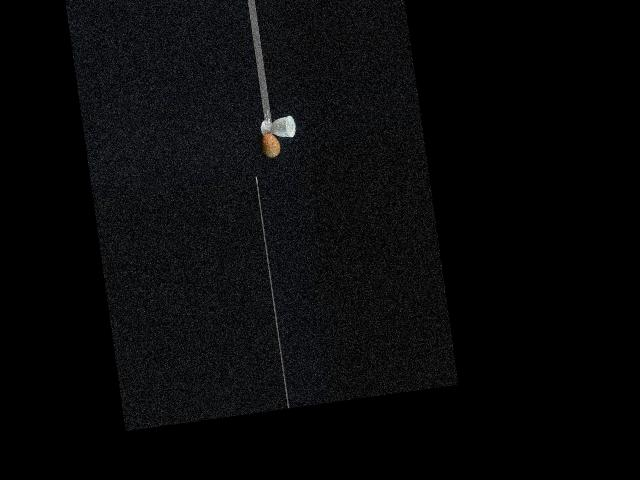egg: (260, 131, 281, 158)
